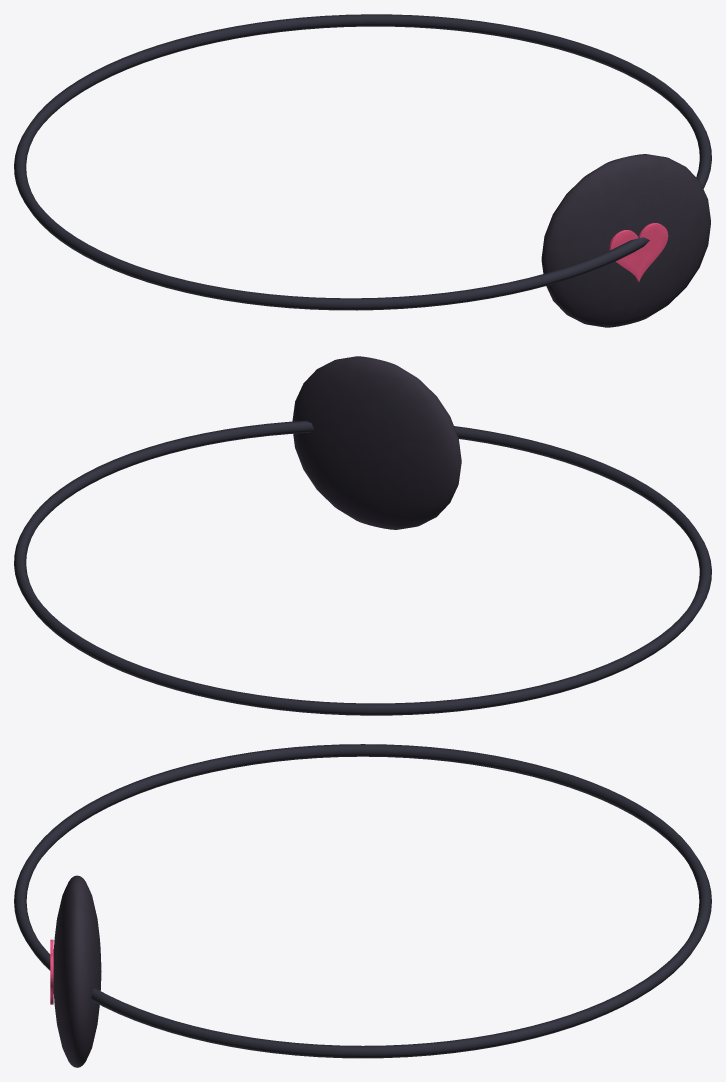
File: restart_patch_pirate_penguin.glb
3 views of the same model, one above another, from view 1: azimuth 30°, elevation 25°; view 2: azimuth 150°, elevation 25°; view 3: azimuth 270°, elevation 25° (orthographic). The views are drawn at different scales.
Parts seen in each view (by area): view 1: Parche acolchado, Cinta elástica, Corazón bordado; view 2: Parche acolchado, Cinta elástica; view 3: Cinta elástica, Parche acolchado.
Part boxes in pixels (x1=…): Parche acolchado: x1=541, y1=154, x2=710, y2=327; Cinta elástica: x1=14, y1=14, x2=711, y2=310; Corazón bordado: x1=609, y1=223, x2=668, y2=281; Parche acolchado: x1=292, y1=356, x2=461, y2=529; Cinta elástica: x1=14, y1=420, x2=711, y2=715; Cinta elástica: x1=14, y1=744, x2=711, y2=1058; Parche acolchado: x1=53, y1=875, x2=101, y2=1067.
Bounding box in the file's own units: 0.6887 × 0.1809 × 0.6616.
Materials: 3 (3 with a texture image).
